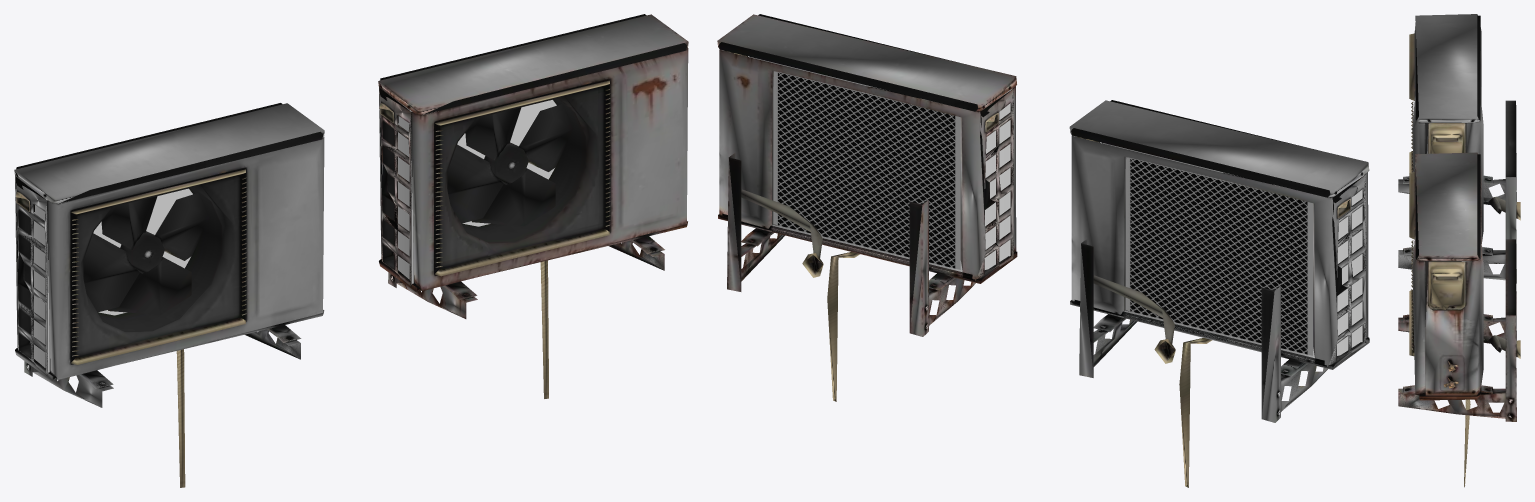
The model's file is exterior_aircon_unit.glb.
3 renders of one model, left to right at view 1: azimuth 30°, elevation 25°; view 2: azimuth 150°, elevation 25°; view 3: azimuth 270°, elevation 25°, orthographic. The views are drawn at different scales.
Visible parts, largest first — view 1: exterior_aircon_unit, exterior_aircon_unit_rusted; view 2: exterior_aircon_unit, exterior_aircon_unit_rusted; view 3: exterior_aircon_unit_rusted, exterior_aircon_unit.
Part boxes in pixels (<box>): exterior_aircon_unit: <box>14,103,324,487</box>; exterior_aircon_unit_rusted: <box>378,14,688,398</box>; exterior_aircon_unit: <box>1069,100,1369,487</box>; exterior_aircon_unit_rusted: <box>717,14,1017,401</box>; exterior_aircon_unit_rusted: <box>1398,152,1520,487</box>; exterior_aircon_unit: <box>1398,14,1520,283</box>.
Bounding box in the file's own units: 1.8 × 0.9214 × 0.3741.
Materials: 4 (4 with a texture image).
